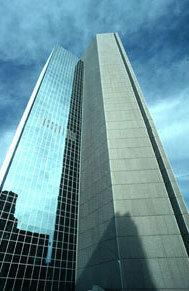building: (0, 31, 189, 291)
